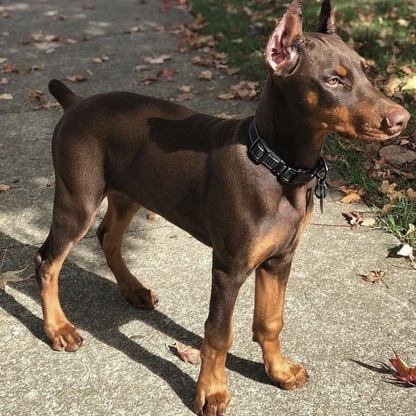doberman: (29, 19, 416, 397)
